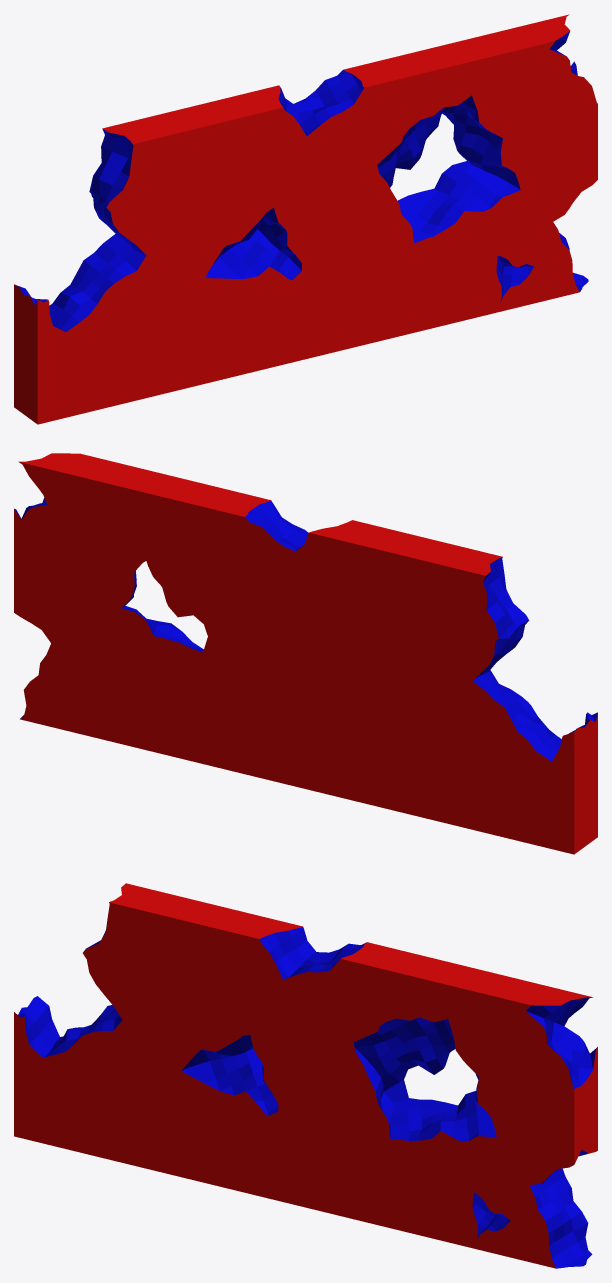
Rendered from broken walls1.fbx.
3 renders of one model, top to bottom at view 1: azimuth 30°, elevation 25°; view 2: azimuth 150°, elevation 25°; view 3: azimuth 330°, elevation 25°, orthographic.
Visible parts, largest first — view 1: wall.001; view 2: wall.001; view 3: wall.001.
Part boxes in pixels (x1=…): wall.001: x1=14, y1=14, x2=597, y2=424; wall.001: x1=14, y1=453, x2=597, y2=854; wall.001: x1=14, y1=883, x2=597, y2=1268.
Bounding box in the file's own units: 12.43 × 5.45 × 0.914.
